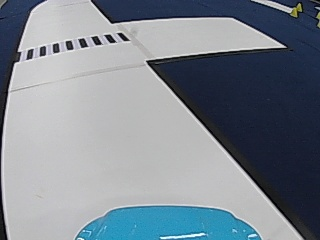CrossWalk: (19, 31, 128, 60)
